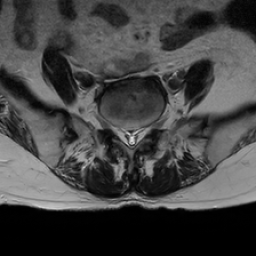CCS_normal: (126, 118, 136, 156)
LFS_normal: (145, 110, 153, 142)
LLS_normal: (136, 118, 145, 152)
RFS_normal: (110, 113, 118, 144)
RLS_normal: (118, 116, 126, 149)
